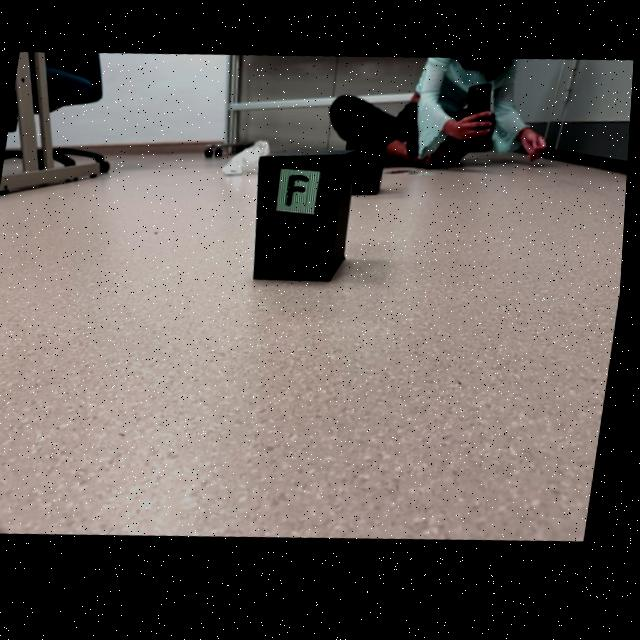F: (289, 180, 312, 211)
